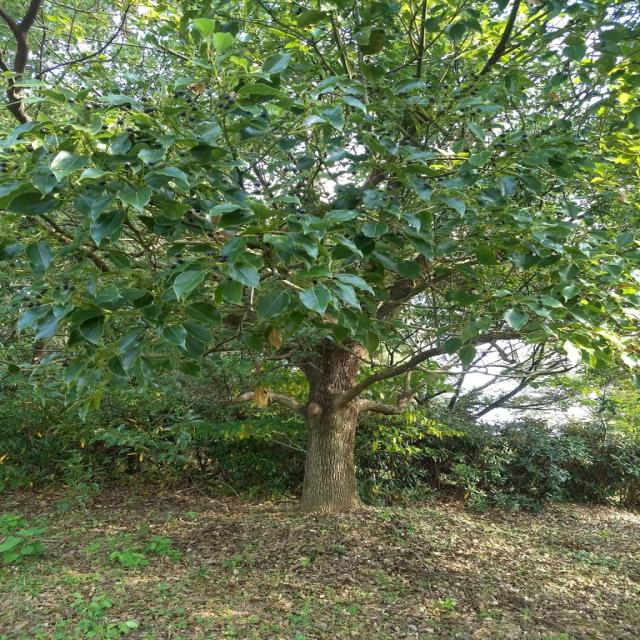camphor: (0, 0, 640, 507)
